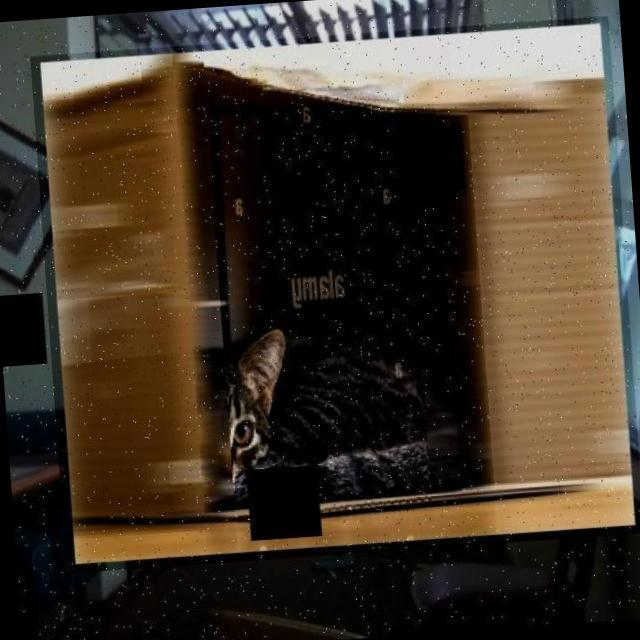box: (29, 16, 640, 573)
